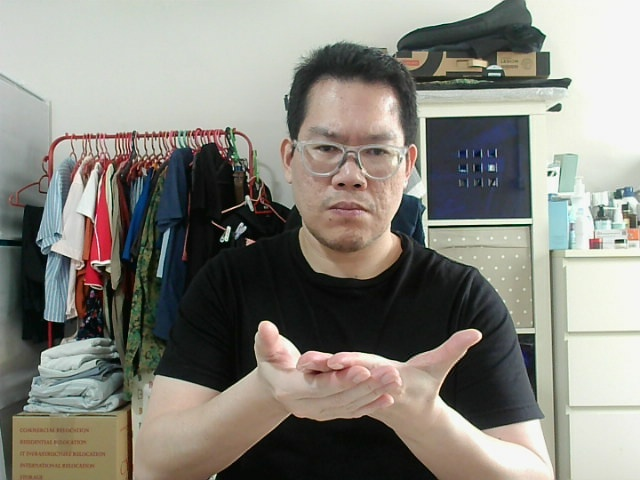good: (267, 334, 387, 419)
